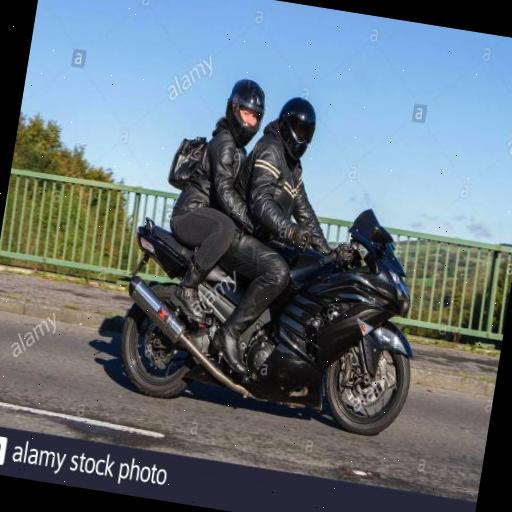helmet: (210, 65, 353, 446)
